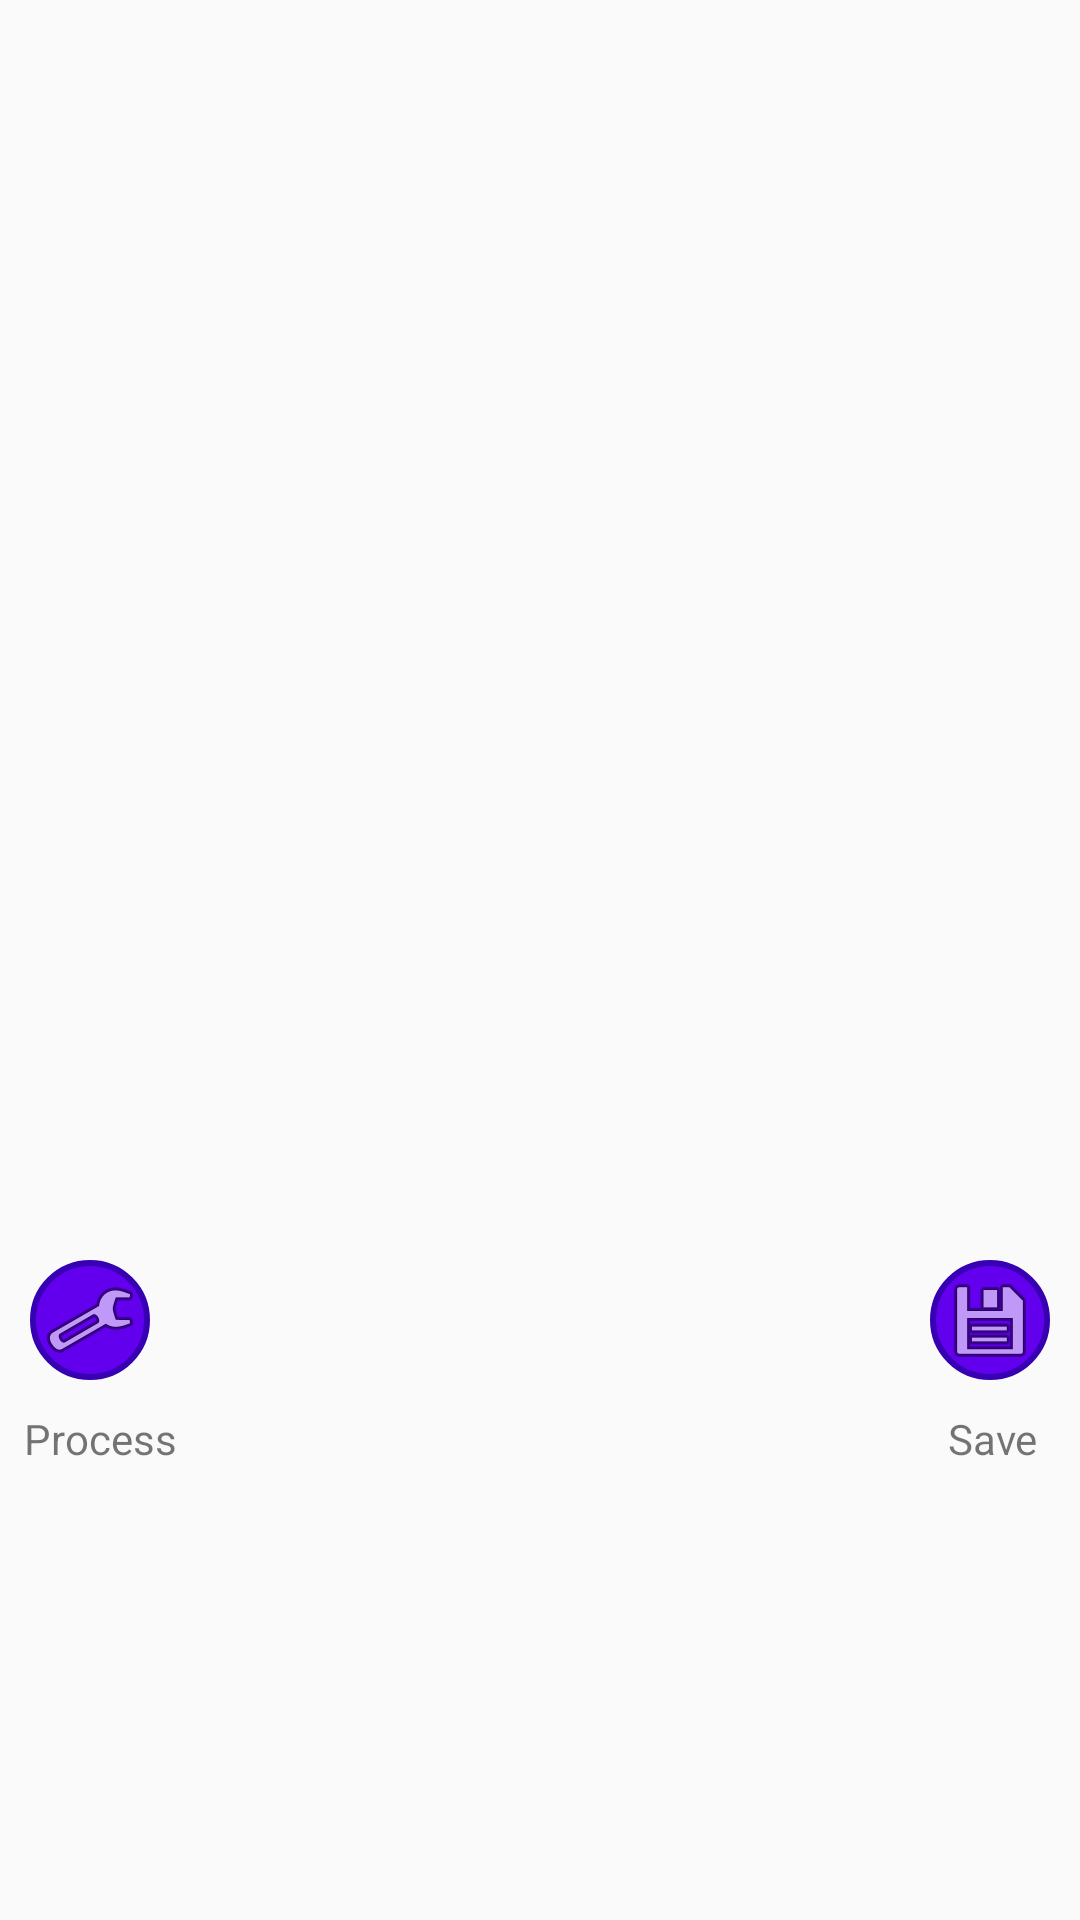

Icons on this 1080w x 1920h Android screen, each with the point to tap as (x,y):
manage: (90,1320)
